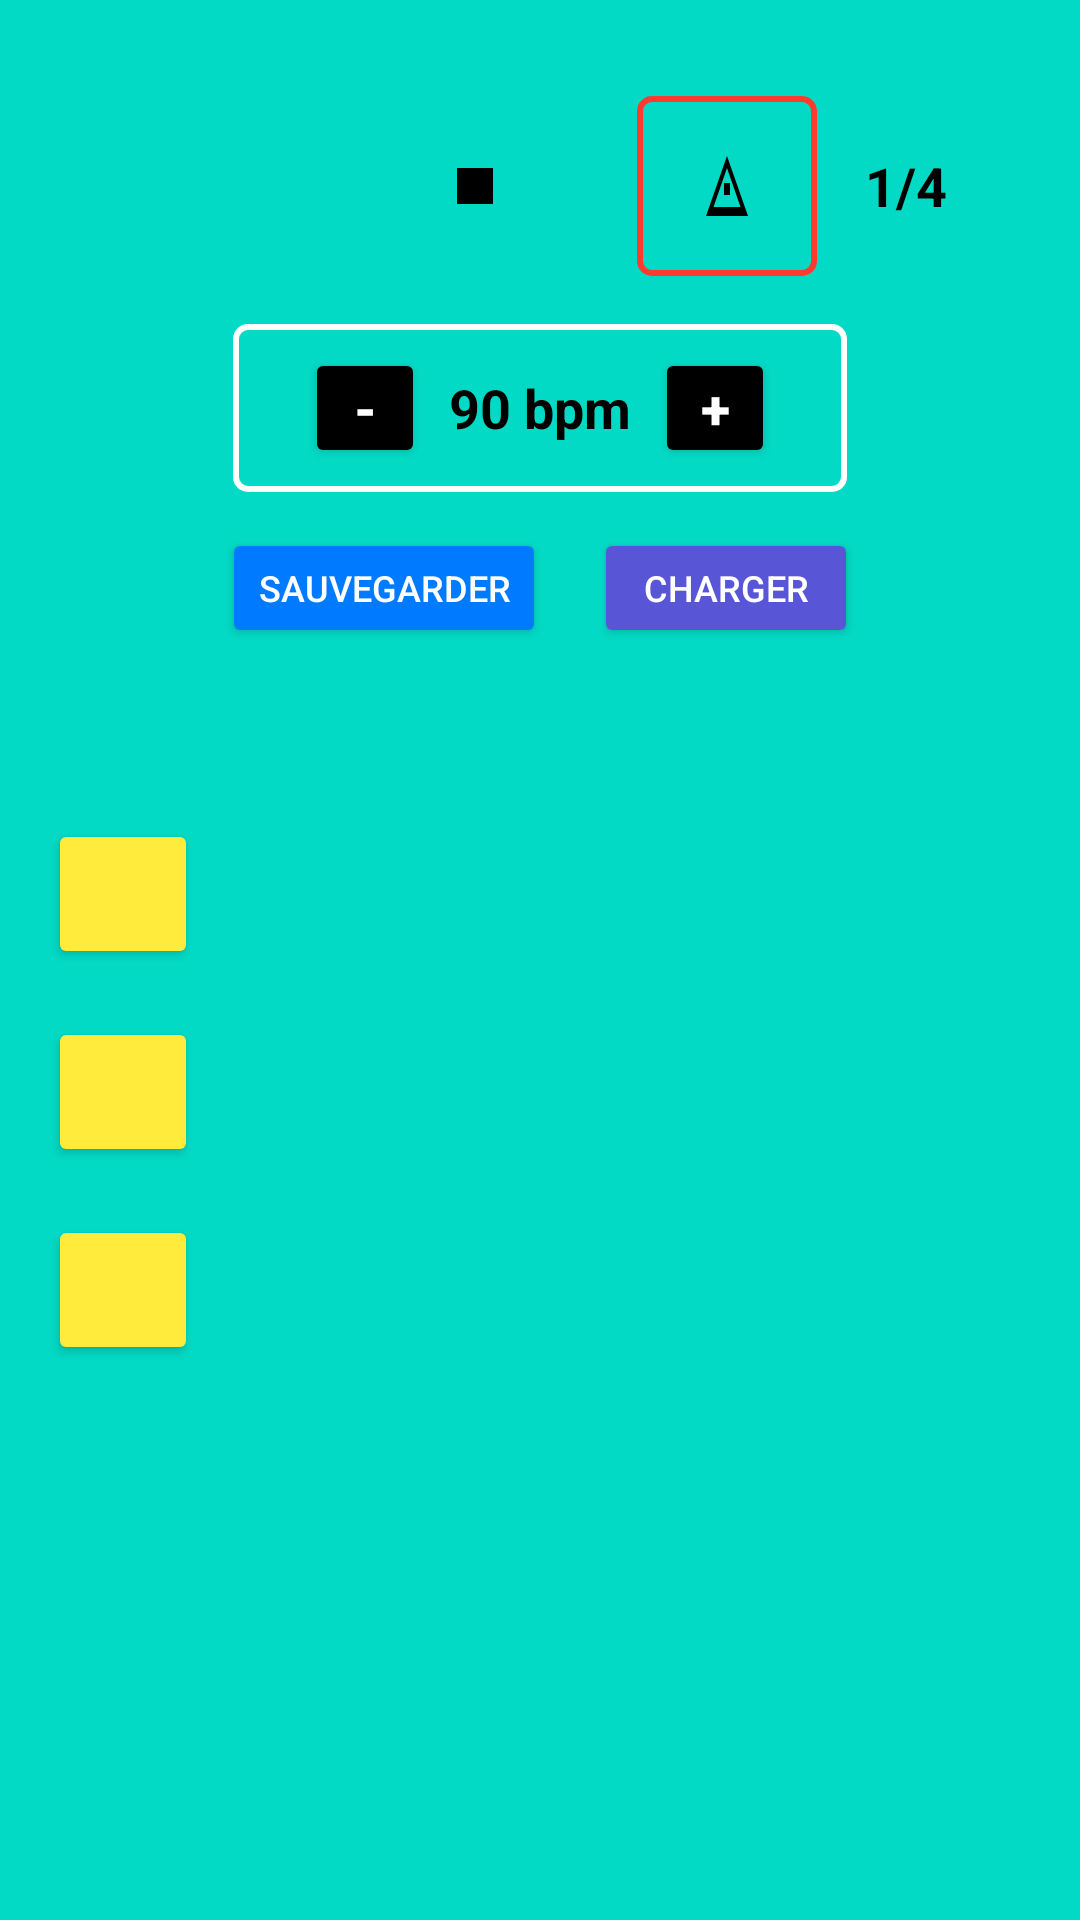

Icons on this 1080 x 1920 Android screen, each with the point to tap as (x,y):
Metronome: (727,186)
